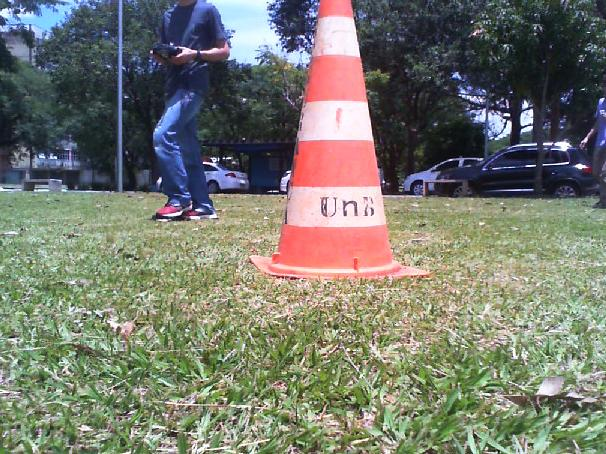0 cone: (250, 0, 432, 279)
